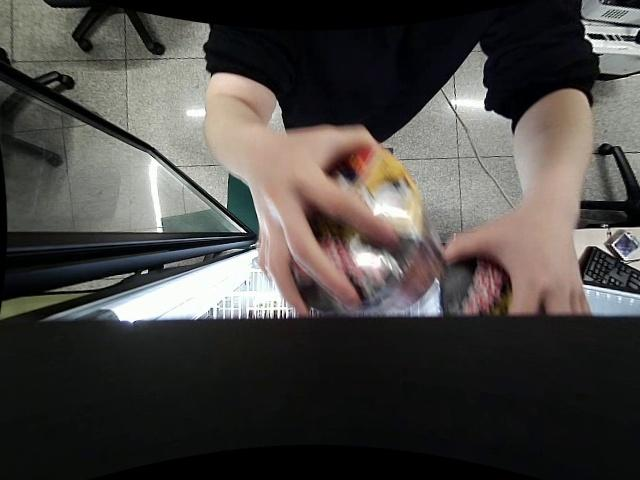00_hand: (245, 125, 405, 313), (444, 201, 592, 317)
07_buldak_L: (292, 145, 441, 315), (441, 253, 515, 323)
